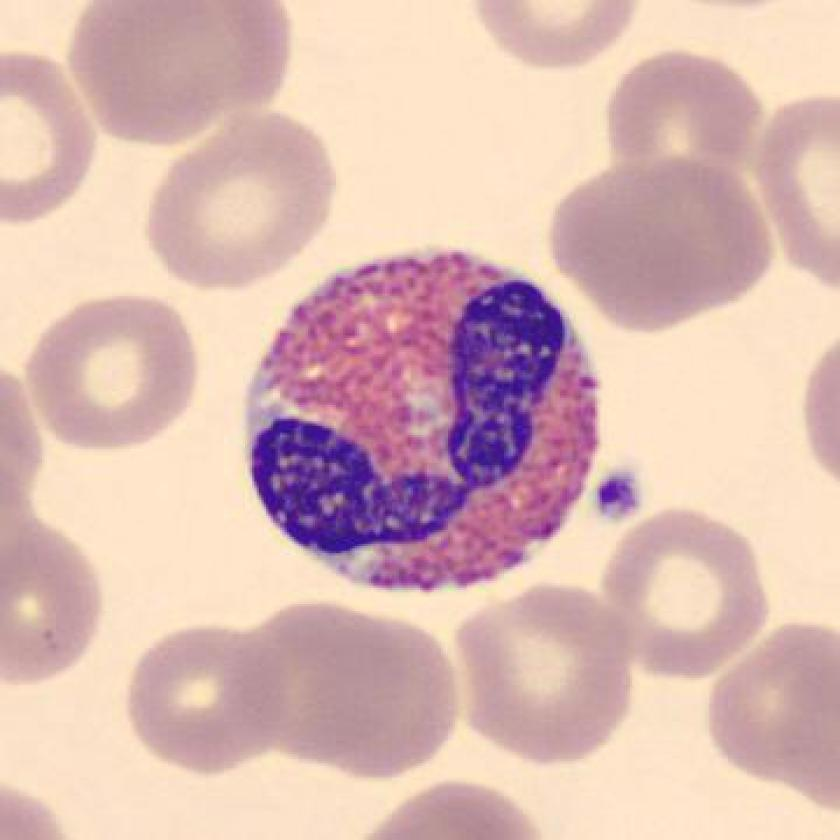eosinophil: (232, 230, 612, 614)
